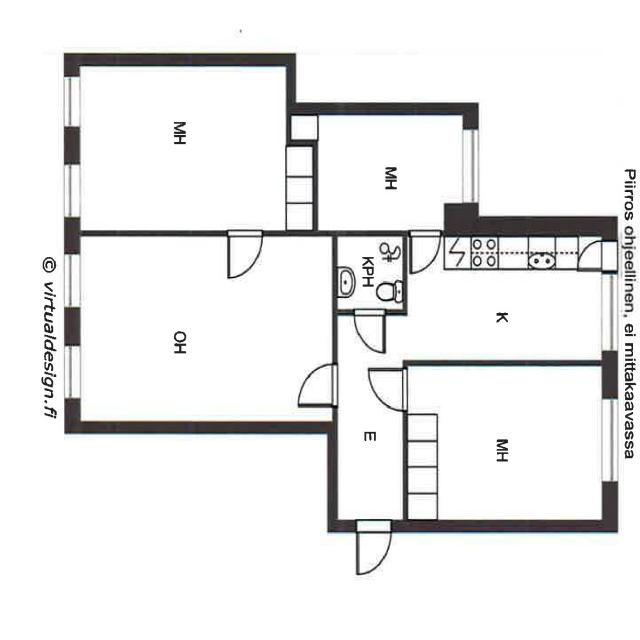door: (356, 520, 390, 572), (298, 364, 338, 406), (368, 369, 408, 410), (228, 230, 262, 278), (354, 309, 385, 353), (410, 230, 440, 273), (578, 240, 617, 270)
